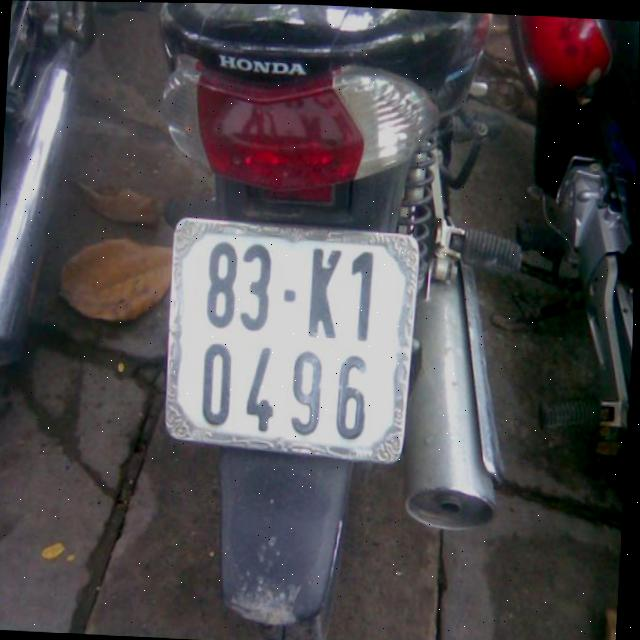motorcycle: (106, 2, 531, 640), (468, 13, 640, 491)
plate: (156, 215, 417, 467)
